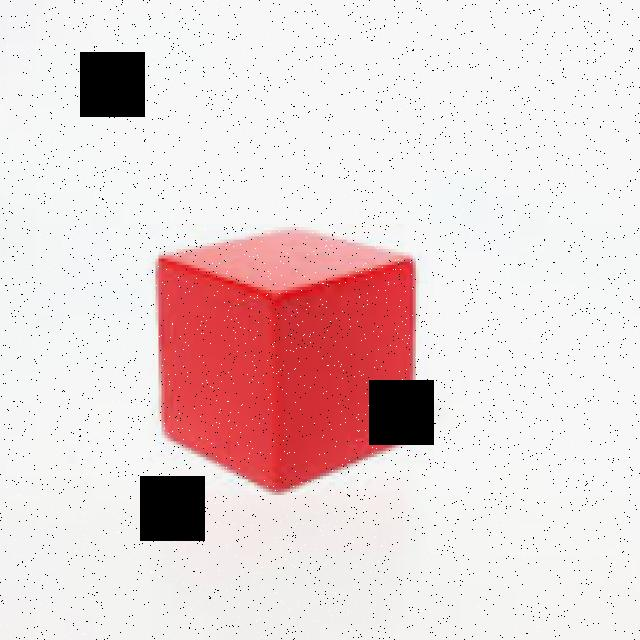red cube: (155, 220, 418, 502)
